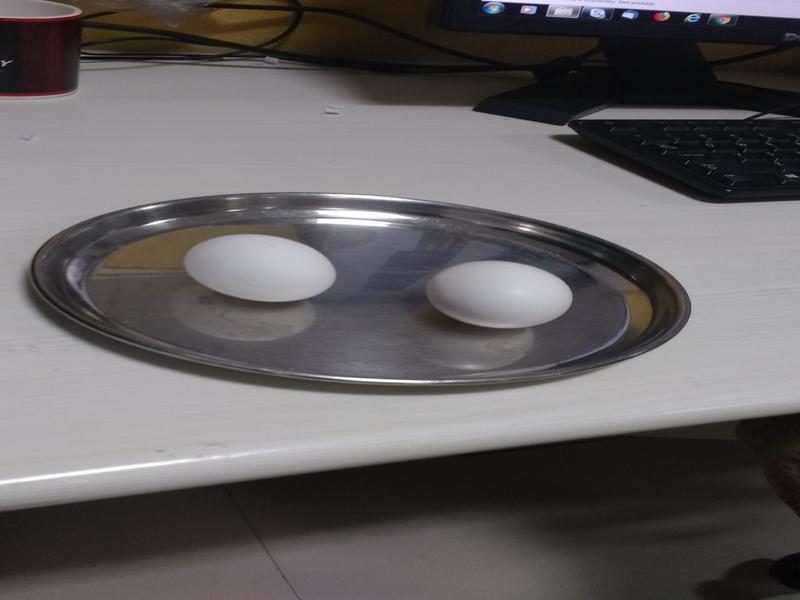egg: (421, 255, 575, 326)
